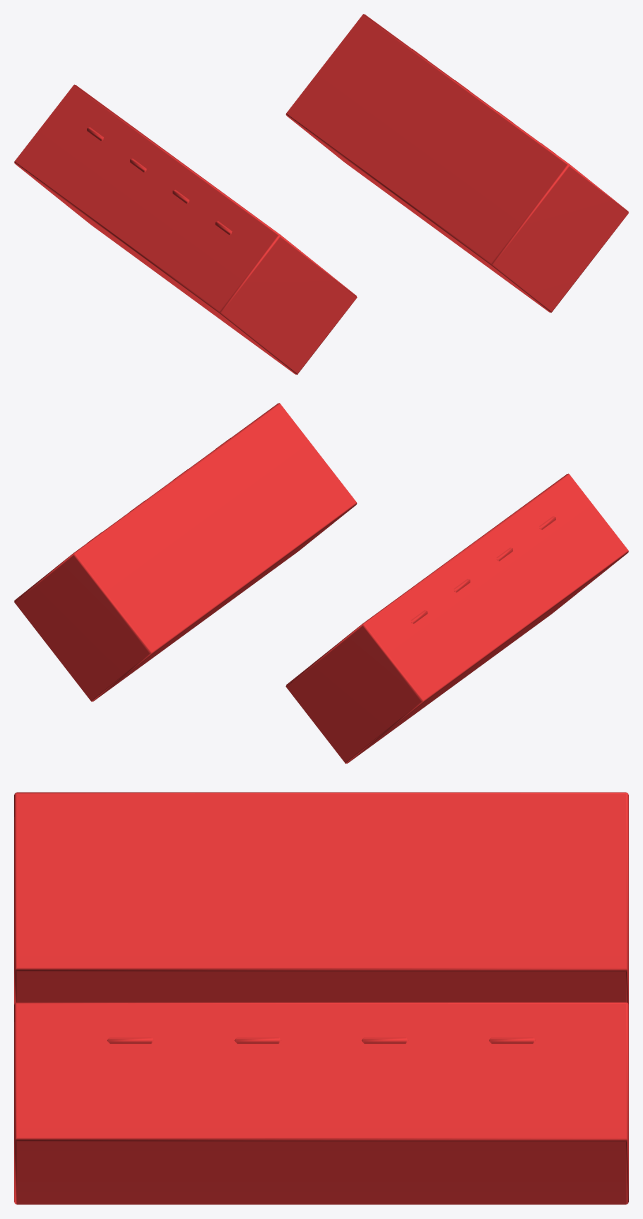
File: cylinder_heads_valves.glb
The picture shows the model from 3 angles, top to bottom: view 1: azimuth 30°, elevation 25°; view 2: azimuth 150°, elevation 25°; view 3: azimuth 270°, elevation 25°; orthographic projection. The views are drawn at different scales.
Parts seen in each view (by area): view 1: GEO_Cylinder_Heads_Valves; view 2: GEO_Cylinder_Heads_Valves; view 3: GEO_Cylinder_Heads_Valves.
Part boxes in pixels (left/top/right/bottom): GEO_Cylinder_Heads_Valves: left=14, top=14, right=628, bottom=374; GEO_Cylinder_Heads_Valves: left=14, top=403, right=628, bottom=763; GEO_Cylinder_Heads_Valves: left=14, top=792, right=628, bottom=1204.
Bounding box in the file's own units: 0.6627 × 0.2226 × 0.58.
